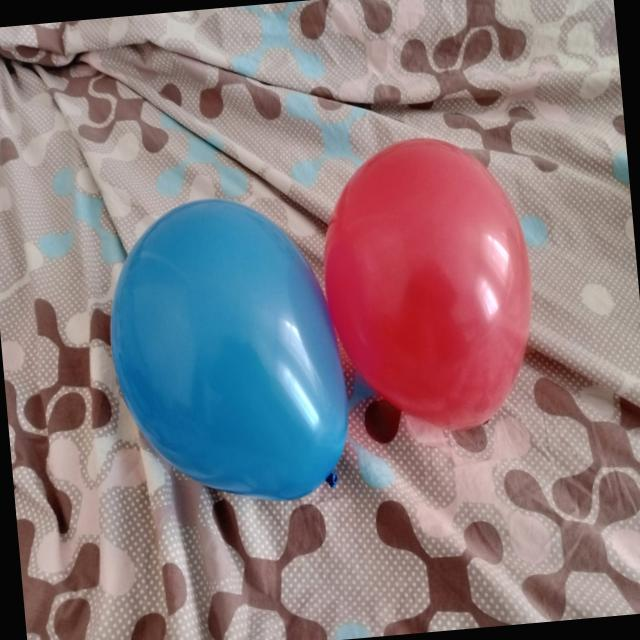balloon: (111, 199, 348, 500), (323, 138, 531, 428)
